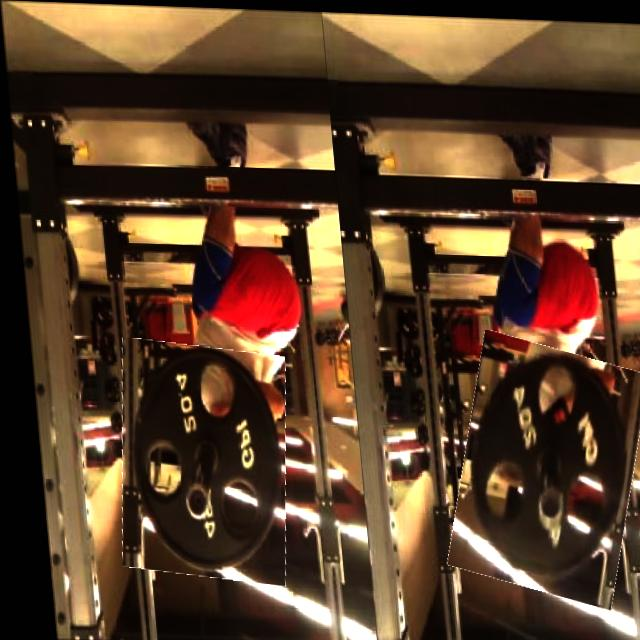barbell: (435, 334, 640, 600), (103, 340, 291, 583)
